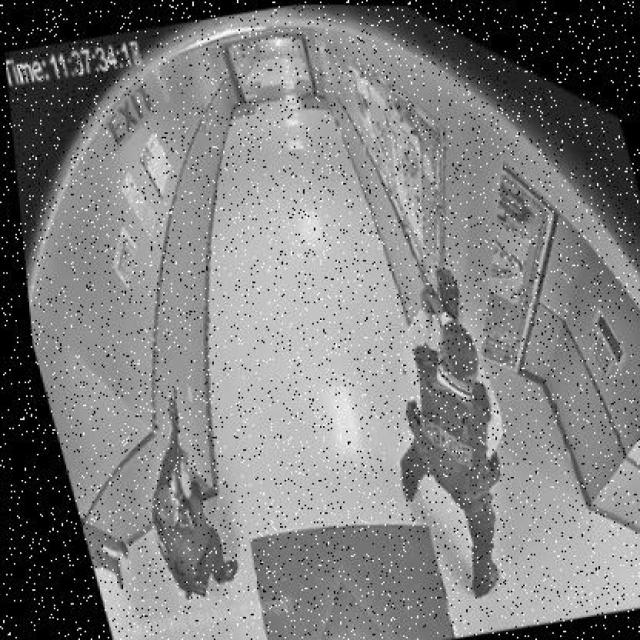weapon: (165, 389, 193, 526), (417, 268, 443, 316)
